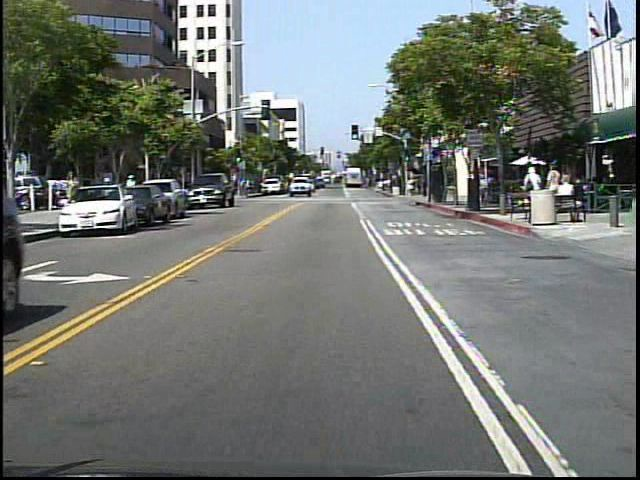person: (63, 167, 83, 218), (240, 176, 253, 201)
